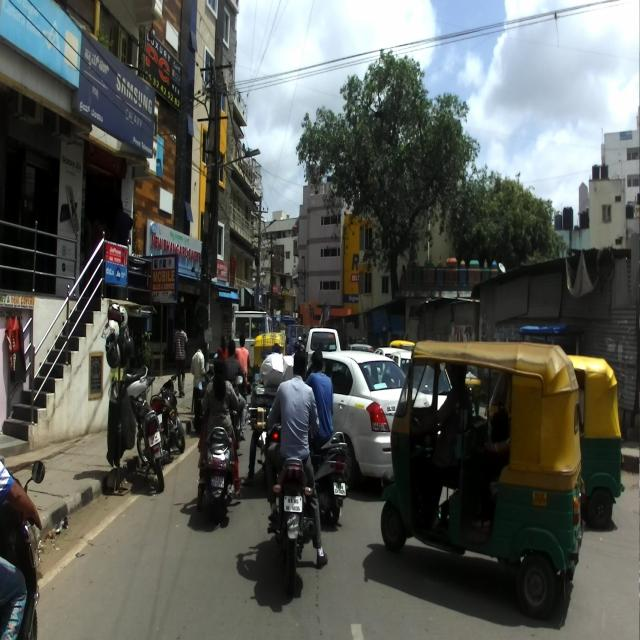autorickshaw: (380, 339, 586, 619), (566, 354, 624, 531)
car: (303, 350, 407, 496)
motorcycle: (261, 423, 316, 594), (130, 374, 169, 490), (150, 368, 186, 455)
scooter: (196, 374, 243, 526), (308, 429, 350, 526)
